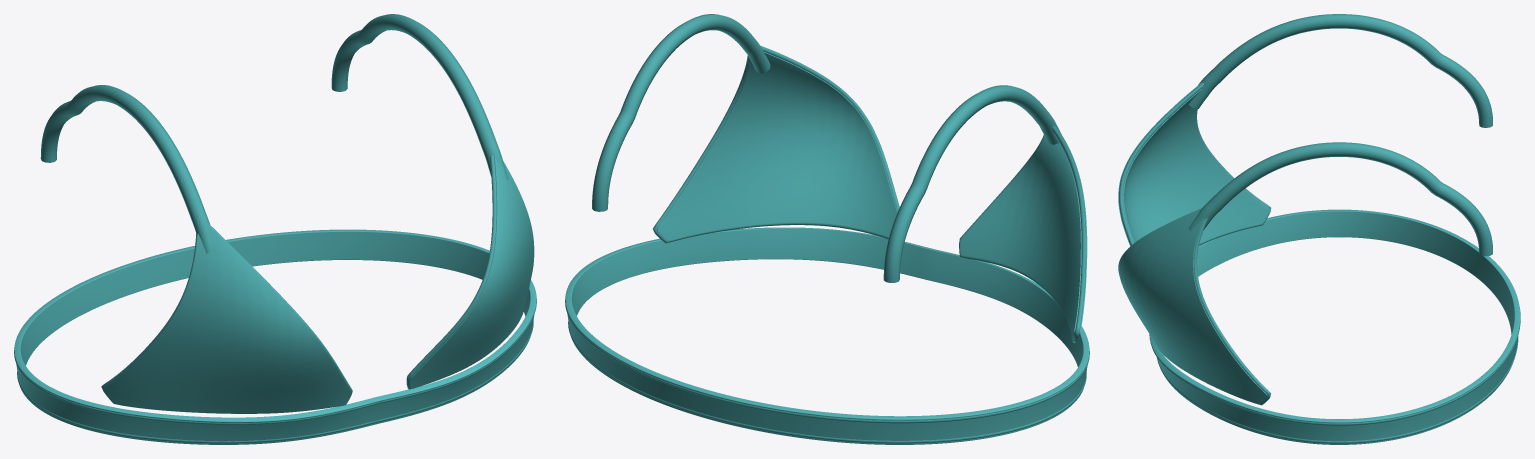
Rendered from Feminine-triangle-top.glb.
The picture shows the model from 3 angles, left to right: view 1: azimuth 30°, elevation 25°; view 2: azimuth 150°, elevation 25°; view 3: azimuth 270°, elevation 25°; orthographic projection. The views are drawn at different scales.
Parts seen in each view (by area): view 1: Clothing / Triangle underband, Clothing / triangle cup -1, Clothing / triangle cup 1, Triangle shoulder strap export, Triangle shoulder strap.001 export, Triangle underband stitched edge export, Triangle underband stitched edge.001 export, Triangle / seated cup binding -1 export, Triangle / seated cup binding 1 export; view 2: Clothing / Triangle underband, Clothing / triangle cup 1, Clothing / triangle cup -1, Triangle shoulder strap.001 export, Triangle shoulder strap export, Triangle / seated cup binding 1 export, Triangle / seated cup binding -1 export, Triangle underband stitched edge export, Triangle underband stitched edge.001 export; view 3: Clothing / Triangle underband, Clothing / triangle cup 1, Clothing / triangle cup -1, Triangle shoulder strap export, Triangle shoulder strap.001 export, Triangle / seated cup binding -1 export, Triangle underband stitched edge export, Triangle underband stitched edge.001 export, Triangle / seated cup binding 1 export.
Boxes of the visible parts, box(x1,y1,x2,y2) form: Clothing / Triangle underband: box(14, 229, 536, 444); Clothing / triangle cup -1: box(103, 226, 351, 413); Clothing / triangle cup 1: box(410, 156, 534, 388); Triangle shoulder strap export: box(40, 85, 211, 253); Triangle shoulder strap.001 export: box(331, 14, 508, 179); Triangle underband stitched edge export: box(17, 321, 533, 443); Triangle underband stitched edge.001 export: box(14, 298, 536, 424); Triangle / seated cup binding -1 export: box(101, 224, 352, 413); Triangle / seated cup binding 1 export: box(406, 155, 496, 389); Clothing / Triangle underband: box(565, 227, 1089, 444); Clothing / triangle cup 1: box(657, 45, 897, 240); Clothing / triangle cup -1: box(960, 125, 1087, 339); Triangle shoulder strap.001 export: box(592, 14, 770, 211); Triangle shoulder strap export: box(883, 85, 1060, 282); Triangle / seated cup binding 1 export: box(653, 46, 899, 243); Triangle / seated cup binding -1 export: box(959, 126, 1086, 343); Triangle underband stitched edge export: box(568, 322, 1086, 443); Triangle underband stitched edge.001 export: box(565, 296, 1089, 423); Clothing / Triangle underband: box(1149, 209, 1520, 444); Clothing / triangle cup 1: box(1118, 209, 1267, 403); Clothing / triangle cup -1: box(1118, 83, 1269, 246); Triangle shoulder strap export: box(1188, 14, 1492, 127); Triangle shoulder strap.001 export: box(1188, 142, 1492, 256); Triangle / seated cup binding -1 export: box(1119, 82, 1271, 245); Triangle underband stitched edge export: box(1157, 337, 1518, 443); Triangle underband stitched edge.001 export: box(1150, 307, 1520, 425); Triangle / seated cup binding 1 export: box(1130, 208, 1271, 405).
Bounding box in the file's own units: 0.6873 × 0.3934 × 0.5488.
